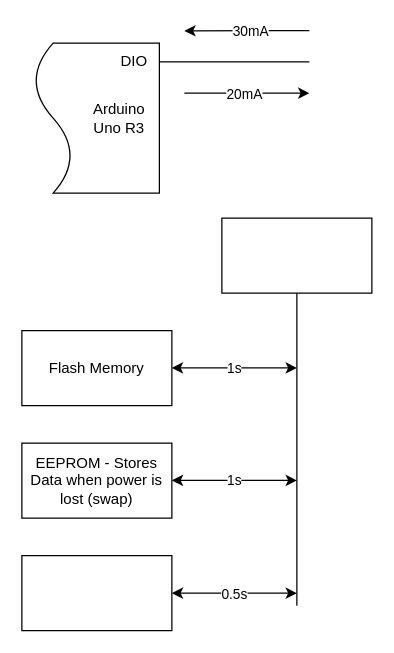
The diagram is 394 pixels wide and 653 high, and some of its shapes have lost their labels. The shapes that lost their labels are listed below. From the top down, each one's centre as x and y in pixels, then its label:
At point 296,255: "CPU".
At point 96,592: "SRAM - makes execution faster".
